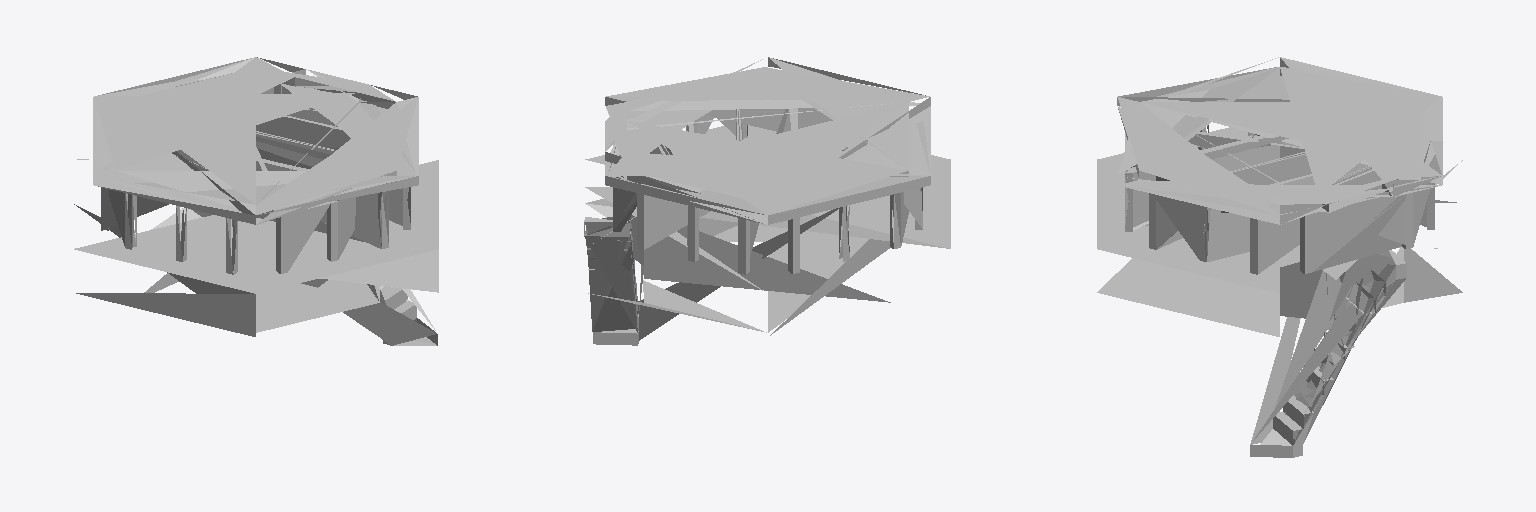
Rendered from lighthouse.obj.
3 renders of one model, left to right at view 1: azimuth 30°, elevation 25°; view 2: azimuth 150°, elevation 25°; view 3: azimuth 270°, elevation 25°, orthographic.
Size of the model in its own units: 79.79 by 49.78 by 69.1.